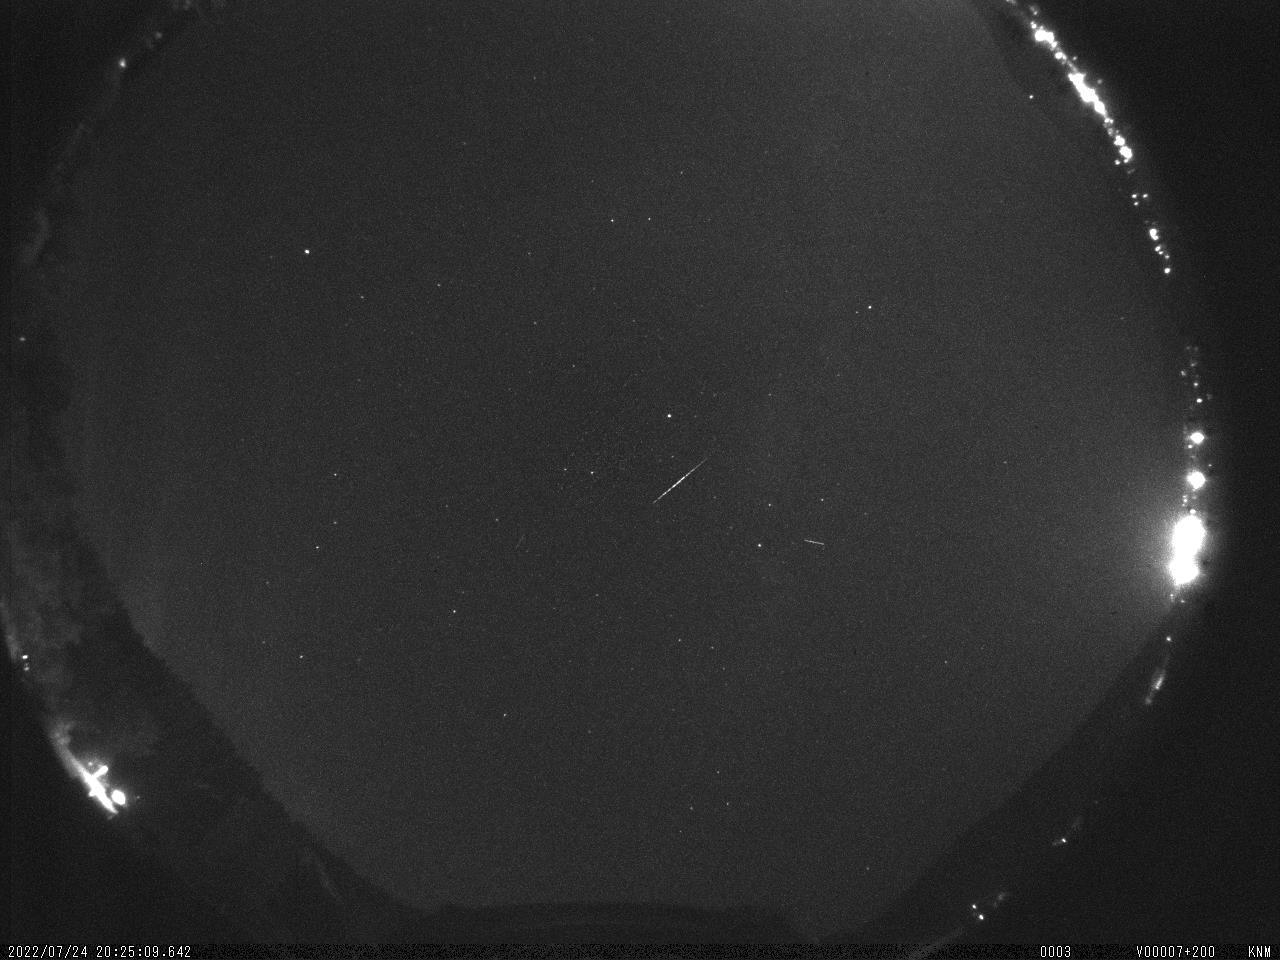Meteor: (646, 450, 715, 506), (798, 532, 831, 555)
